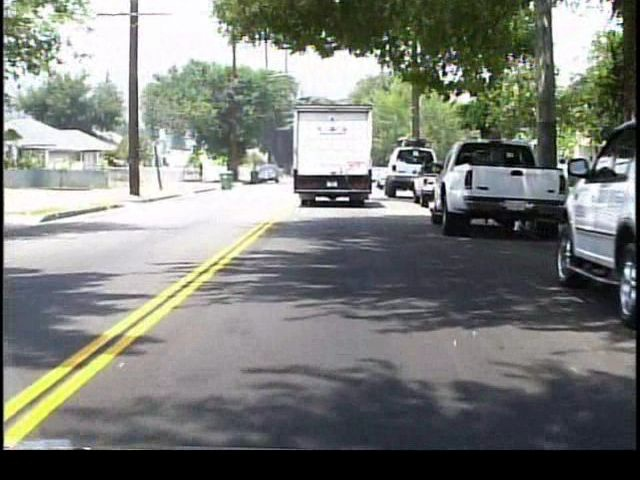person: (198, 162, 207, 185)
